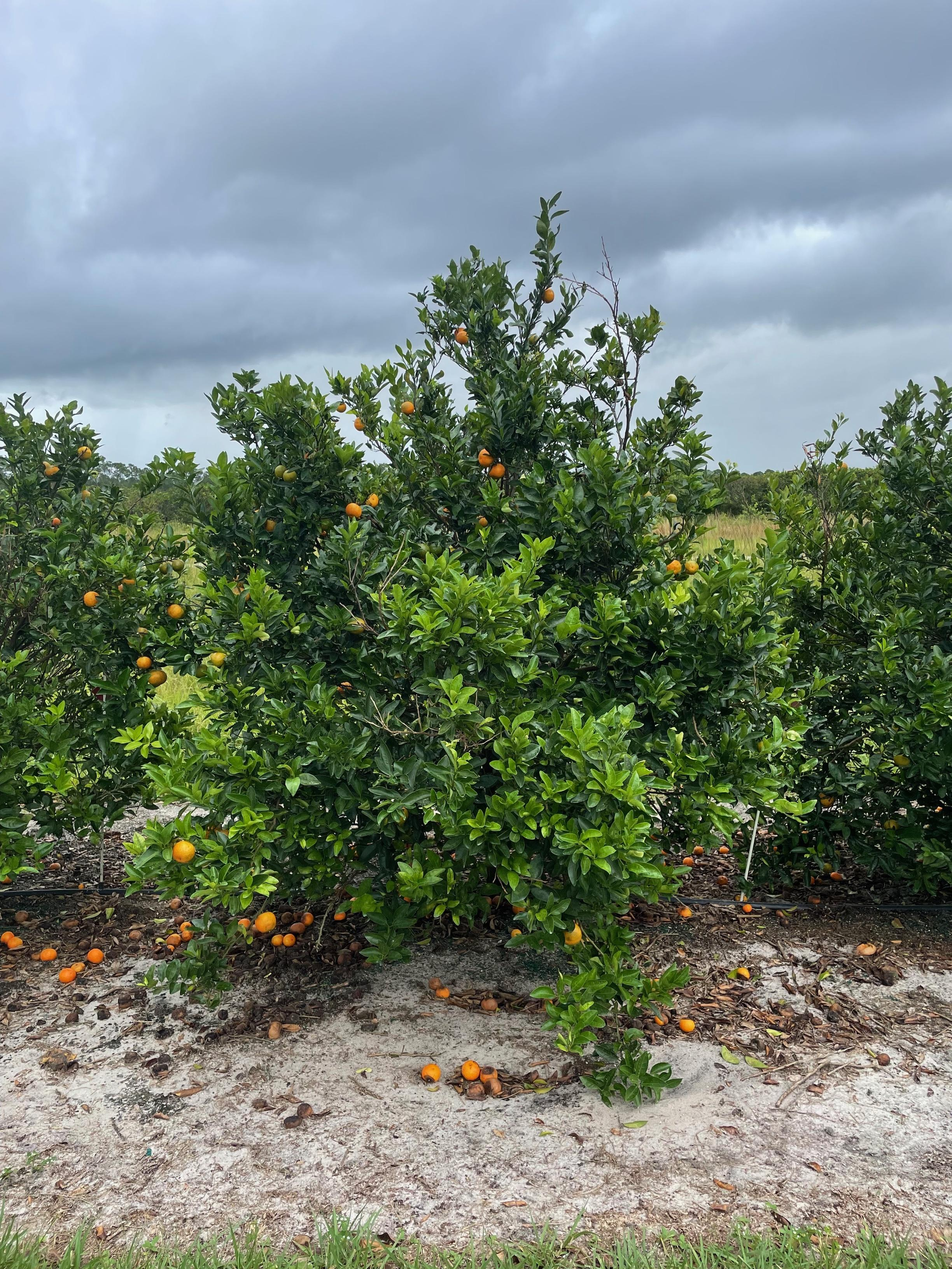fruit_on_ground: (170, 838, 196, 865), (196, 822, 224, 846), (560, 921, 584, 946), (389, 803, 411, 826), (344, 615, 367, 636), (477, 446, 496, 468), (82, 589, 102, 609), (147, 668, 168, 687), (487, 461, 507, 480), (209, 650, 229, 669), (344, 500, 363, 519), (166, 602, 185, 621), (335, 680, 354, 698), (665, 558, 683, 577), (413, 542, 431, 560), (648, 570, 666, 587), (817, 791, 836, 807), (892, 752, 911, 768), (193, 662, 210, 679), (76, 444, 93, 461), (135, 654, 153, 670), (684, 558, 700, 575), (353, 415, 369, 432), (364, 491, 380, 508), (44, 464, 61, 480), (428, 542, 444, 558), (282, 468, 299, 483), (541, 288, 556, 305), (78, 488, 94, 503), (171, 558, 187, 573), (474, 513, 490, 528), (400, 400, 415, 416), (883, 818, 900, 832), (119, 575, 136, 589), (158, 561, 173, 576), (453, 327, 468, 342), (274, 464, 288, 478), (665, 492, 679, 505), (49, 516, 63, 529), (456, 331, 469, 344), (38, 460, 52, 472), (334, 401, 347, 413), (821, 861, 834, 872), (837, 462, 849, 473)
fruit_on_tree: (459, 1058, 481, 1080), (254, 911, 275, 933), (420, 1062, 442, 1083), (478, 1064, 499, 1084), (483, 1077, 502, 1095), (480, 996, 500, 1013), (856, 941, 877, 957), (297, 1101, 315, 1119), (678, 1015, 696, 1033), (86, 946, 105, 963), (509, 898, 529, 914), (281, 1114, 301, 1130), (367, 1236, 385, 1253), (58, 966, 76, 983), (235, 916, 254, 932), (267, 1021, 284, 1038), (734, 965, 752, 981), (488, 894, 506, 909), (165, 933, 183, 948), (434, 984, 452, 999), (279, 911, 298, 925), (39, 947, 58, 961), (63, 1009, 79, 1025), (875, 1050, 891, 1066), (0, 930, 16, 946), (6, 936, 24, 950), (14, 908, 30, 923), (653, 1012, 670, 1026), (127, 926, 144, 940), (71, 960, 88, 974), (427, 974, 442, 989), (180, 928, 195, 943), (168, 895, 184, 909), (348, 939, 364, 953), (335, 951, 350, 965), (282, 932, 297, 946), (178, 919, 192, 933), (270, 932, 284, 946), (678, 904, 693, 917), (509, 926, 523, 939), (302, 910, 315, 924), (289, 922, 303, 935), (29, 950, 44, 962), (48, 860, 62, 872), (830, 869, 844, 881), (334, 909, 347, 921), (717, 843, 730, 855), (359, 956, 373, 967), (692, 844, 704, 856), (401, 893, 414, 904), (716, 874, 729, 885), (682, 855, 695, 866), (2, 873, 14, 884), (742, 902, 754, 913), (808, 894, 821, 904), (164, 944, 175, 955), (649, 830, 660, 841), (769, 844, 781, 854), (805, 875, 817, 885), (660, 846, 670, 856)
